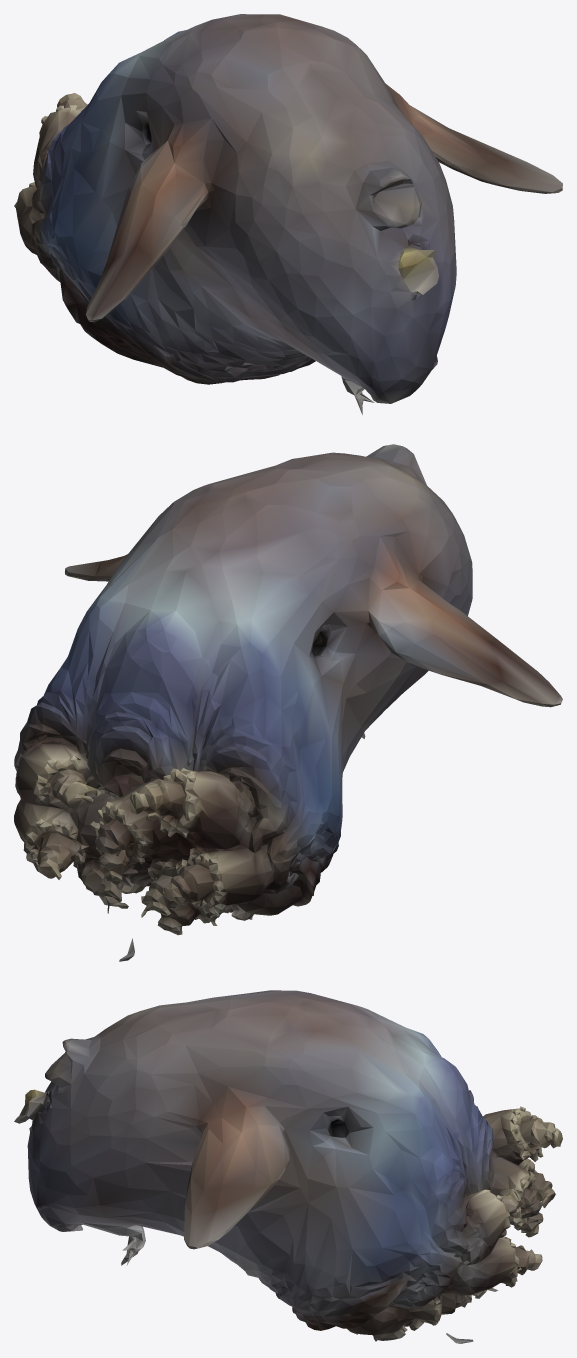
Rendered from dumbo.glb.
The picture shows the model from 3 angles, top to bottom: view 1: azimuth 30°, elevation 25°; view 2: azimuth 150°, elevation 25°; view 3: azimuth 270°, elevation 25°; orthographic projection. The views are drawn at different scales.
Parts seen in each view (by area): view 1: geometry_0; view 2: geometry_0; view 3: geometry_0.
Part boxes in pixels (box(x1,y1,x2,y2)): geometry_0: box(14, 14, 562, 414); geometry_0: box(14, 444, 562, 961); geometry_0: box(14, 990, 562, 1343).
Bounding box in the file's own units: 0.8555 × 0.6632 × 0.9997.
